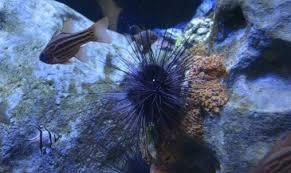urchin: (106, 29, 195, 141)
